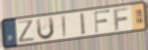F: (113, 6, 131, 31), (94, 9, 111, 34)
I: (79, 12, 87, 37), (61, 14, 67, 38)
U: (35, 15, 55, 41)
Z: (16, 19, 37, 44)
